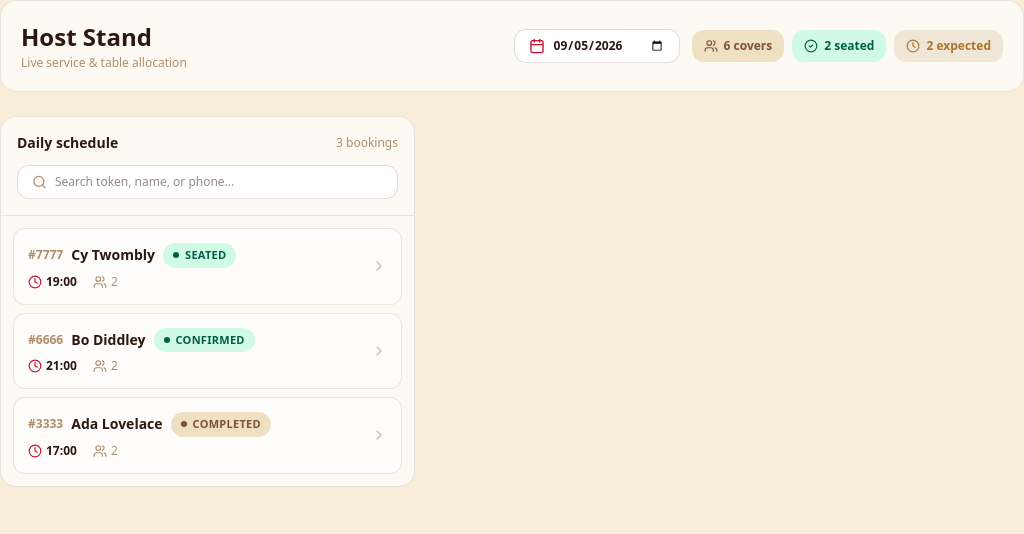
Test: HostStandDashboardPage search › says the search came up empty rather than claiming the day has no bookings
Type "nobody" into the field with placeholder "Search token, name, or phone..." at [219, 182], box [55,174,383,190]
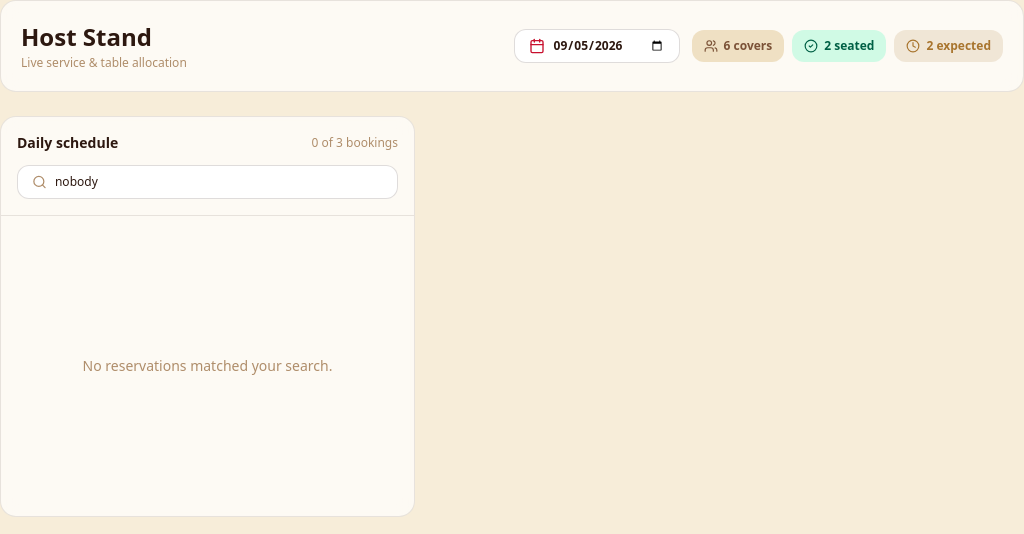
Expected: the text "No reservations matched your search." is shown, [82,356,332,376]
